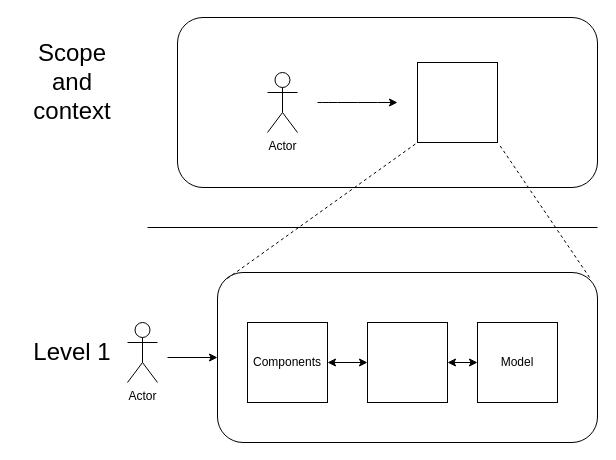
This 616x460 diagram has some shape labels left out. Each missing label, with the box of its shape:
App: (416, 62, 498, 142)
Service: (366, 322, 448, 402)
